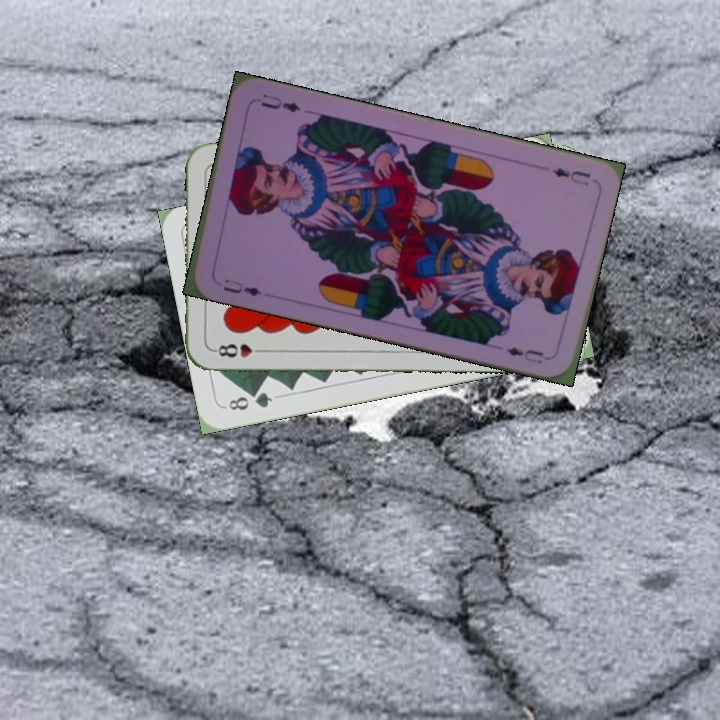EU: (219, 274, 264, 299), (548, 164, 593, 188)
G8: (224, 387, 275, 413)
H8: (210, 340, 269, 360)
